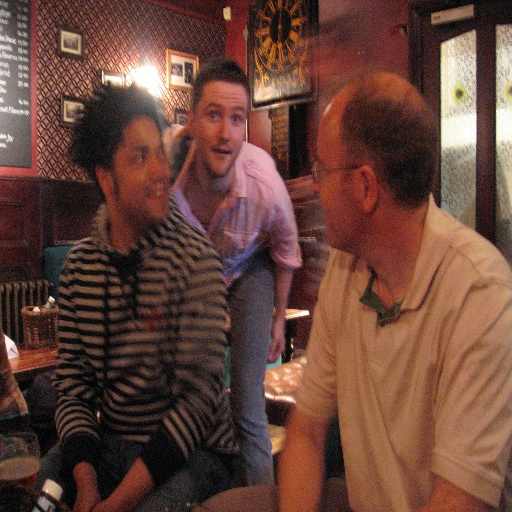hand: (267, 319, 284, 364), (70, 494, 100, 511), (90, 500, 124, 511)
